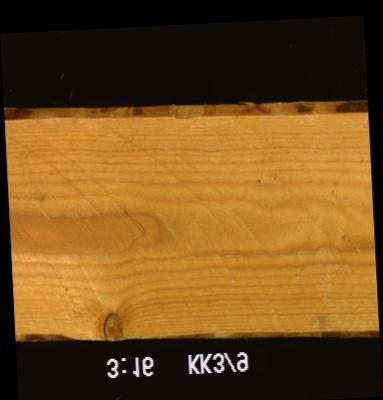edge_knot: (100, 310, 122, 339)
wave: (4, 98, 364, 121), (14, 323, 92, 343)
